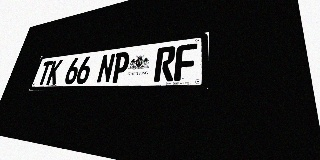6: (75, 56, 94, 84), (63, 57, 82, 84)
F: (174, 43, 197, 81)
K: (46, 59, 63, 85)
N: (96, 53, 116, 83)
P: (110, 51, 131, 83)
R: (153, 46, 176, 82)
T: (37, 61, 53, 85)
